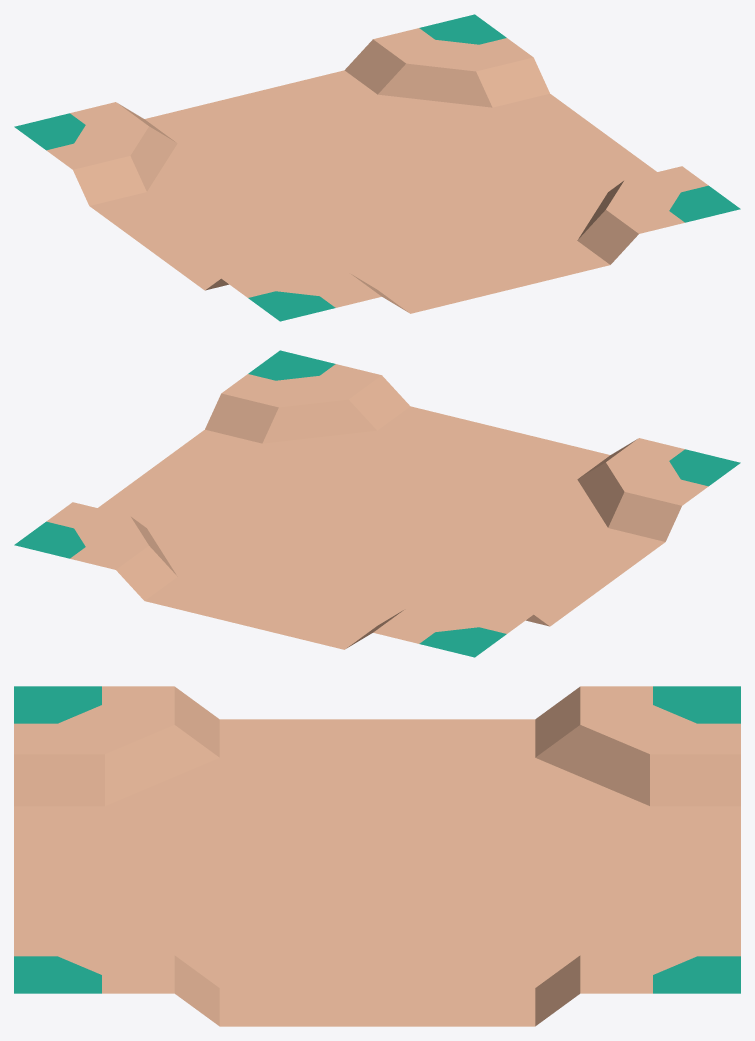
Rendered from ground_pathCross.glb.
3 renders of one model, top to bottom at view 1: azimuth 30°, elevation 25°; view 2: azimuth 150°, elevation 25°; view 3: azimuth 270°, elevation 25°, orthographic. The views are drawn at different scales.
Visible parts, largest first — view 1: ground_pathCross; view 2: ground_pathCross; view 3: ground_pathCross.
Boxes of the visible parts, x1=… form: ground_pathCross: x1=14, y1=14, x2=740, y2=321; ground_pathCross: x1=14, y1=350, x2=740, y2=657; ground_pathCross: x1=14, y1=686, x2=740, y2=1026.
Bounding box in the file's own units: 1 × 0.05 × 1.
